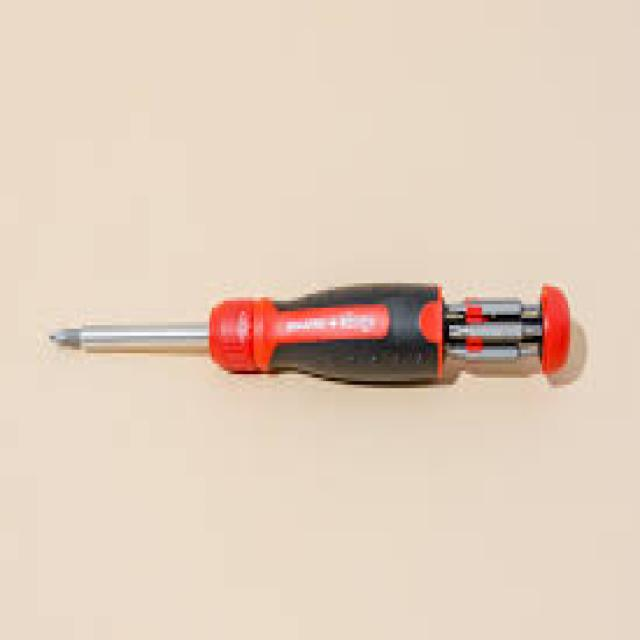Screwdriver: (51, 284, 570, 382)
